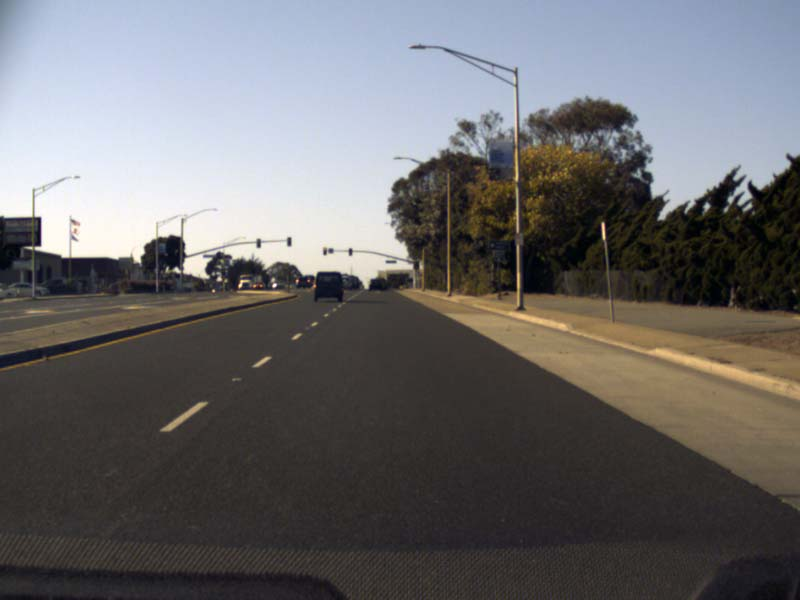Red: (322, 246, 326, 255)
